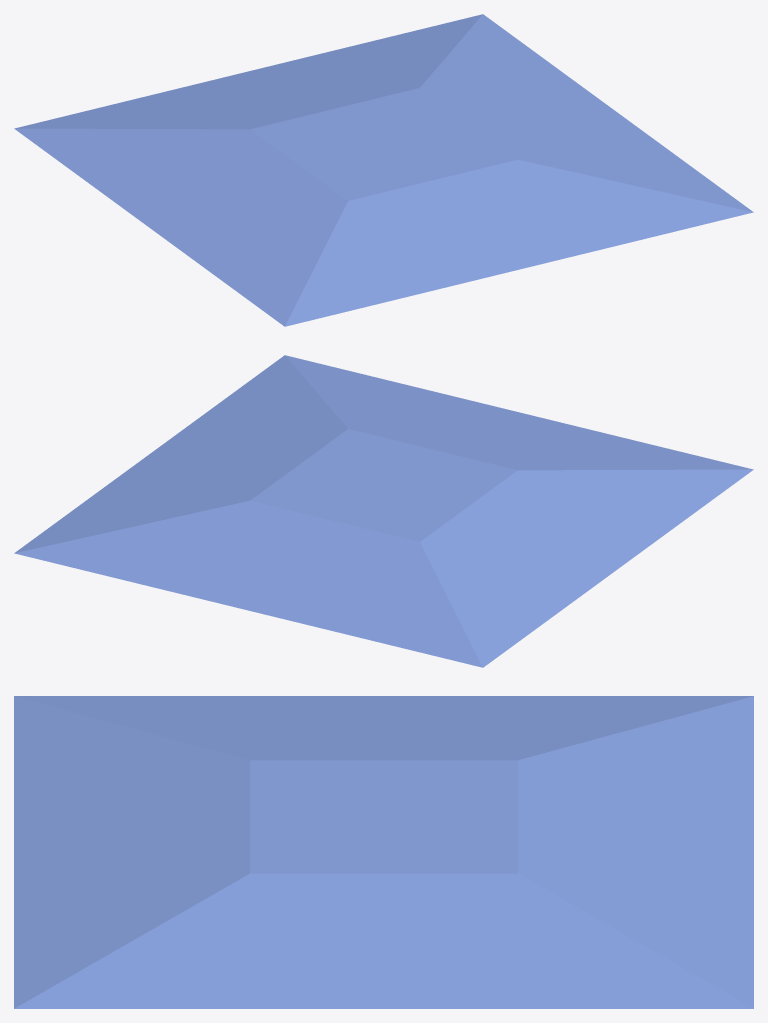
Rendered from Groung2.fbx.
3 views of the same model, one above another, from view 1: azimuth 30°, elevation 25°; view 2: azimuth 150°, elevation 25°; view 3: azimuth 270°, elevation 25° (orthographic). The views are drawn at different scales.
Visible parts, largest first — view 1: Cube; view 2: Cube; view 3: Cube.
Boxes of the visible parts, x1=… form: Cube: x1=14, y1=14, x2=753, y2=326; Cube: x1=14, y1=355, x2=753, y2=667; Cube: x1=14, y1=696, x2=753, y2=1008.
Bounding box in the file's own units: 82.92 × 4.4 × 82.92.
